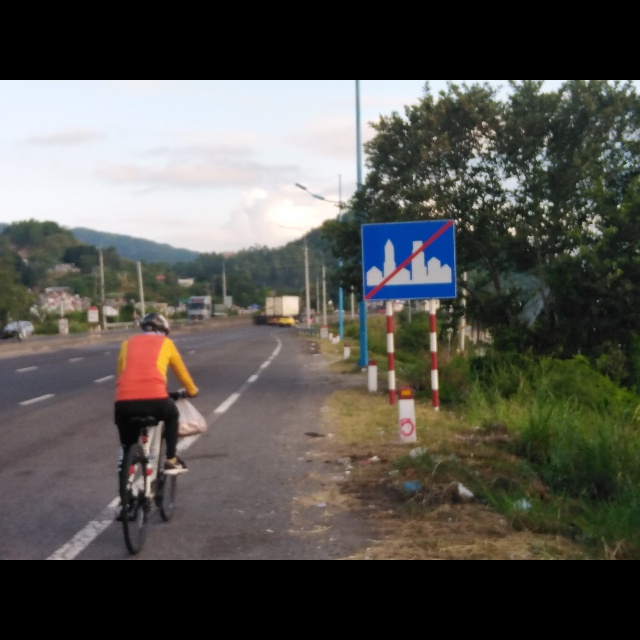Hết khu đông dân cư: (358, 220, 458, 299)
